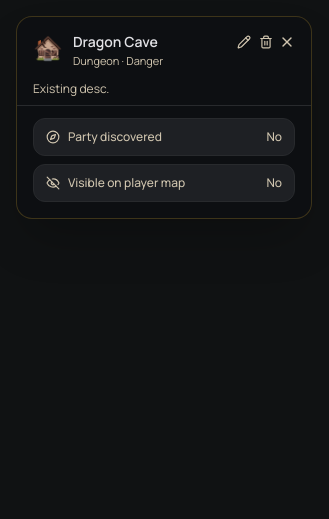
Test: MapPoIInfoCard — edit mode › edit form pre-fills description from current poi.description
Click the button titled "Edit details": (244, 42) [235,33,253,51]
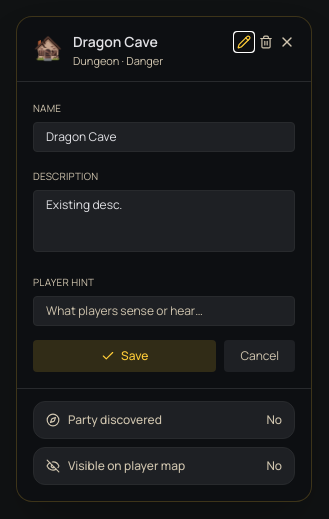
Result: the text box showing "Existing desc." is shown at [33,190,295,252]
